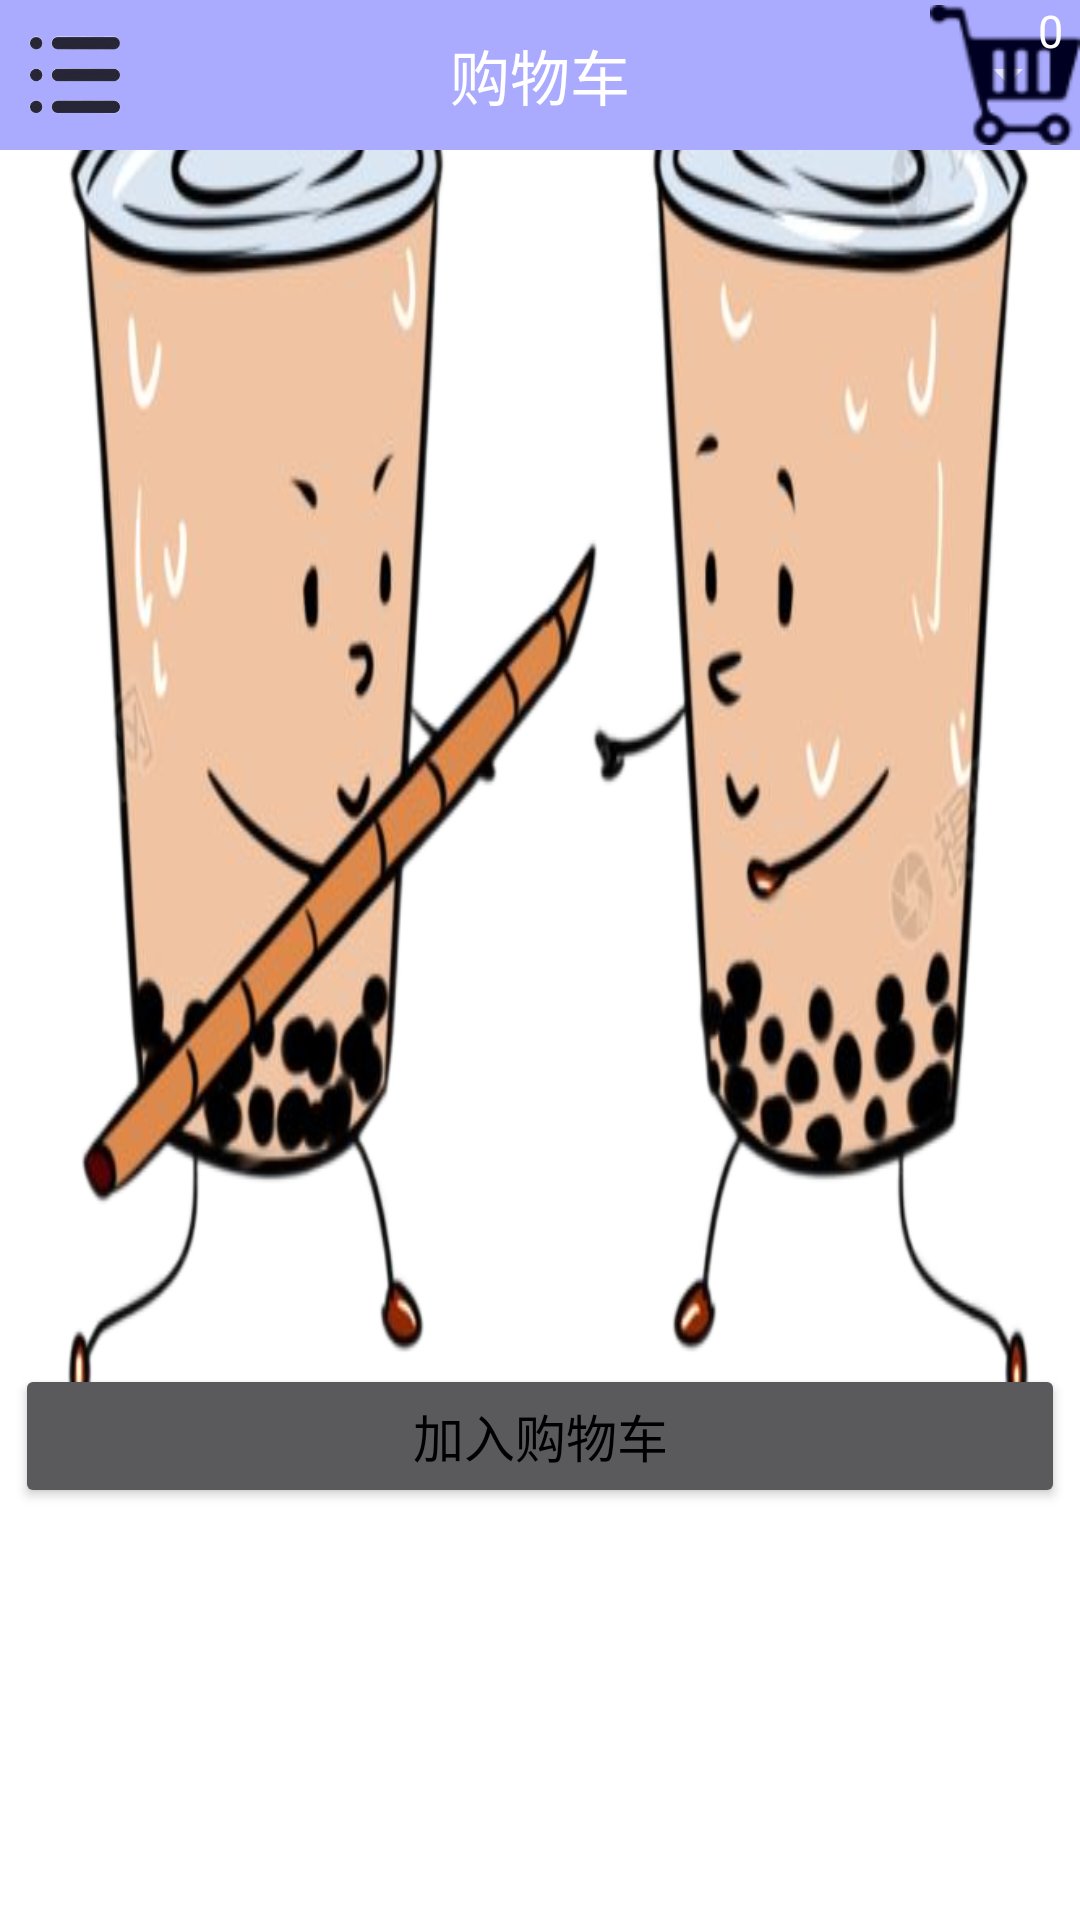

Locate icon controls on the screen. Image size 1080px×1920px, boxes as (x1, y1, x2, y2).
cart: (930, 5, 1080, 145)
menu: (30, 36, 120, 113)
